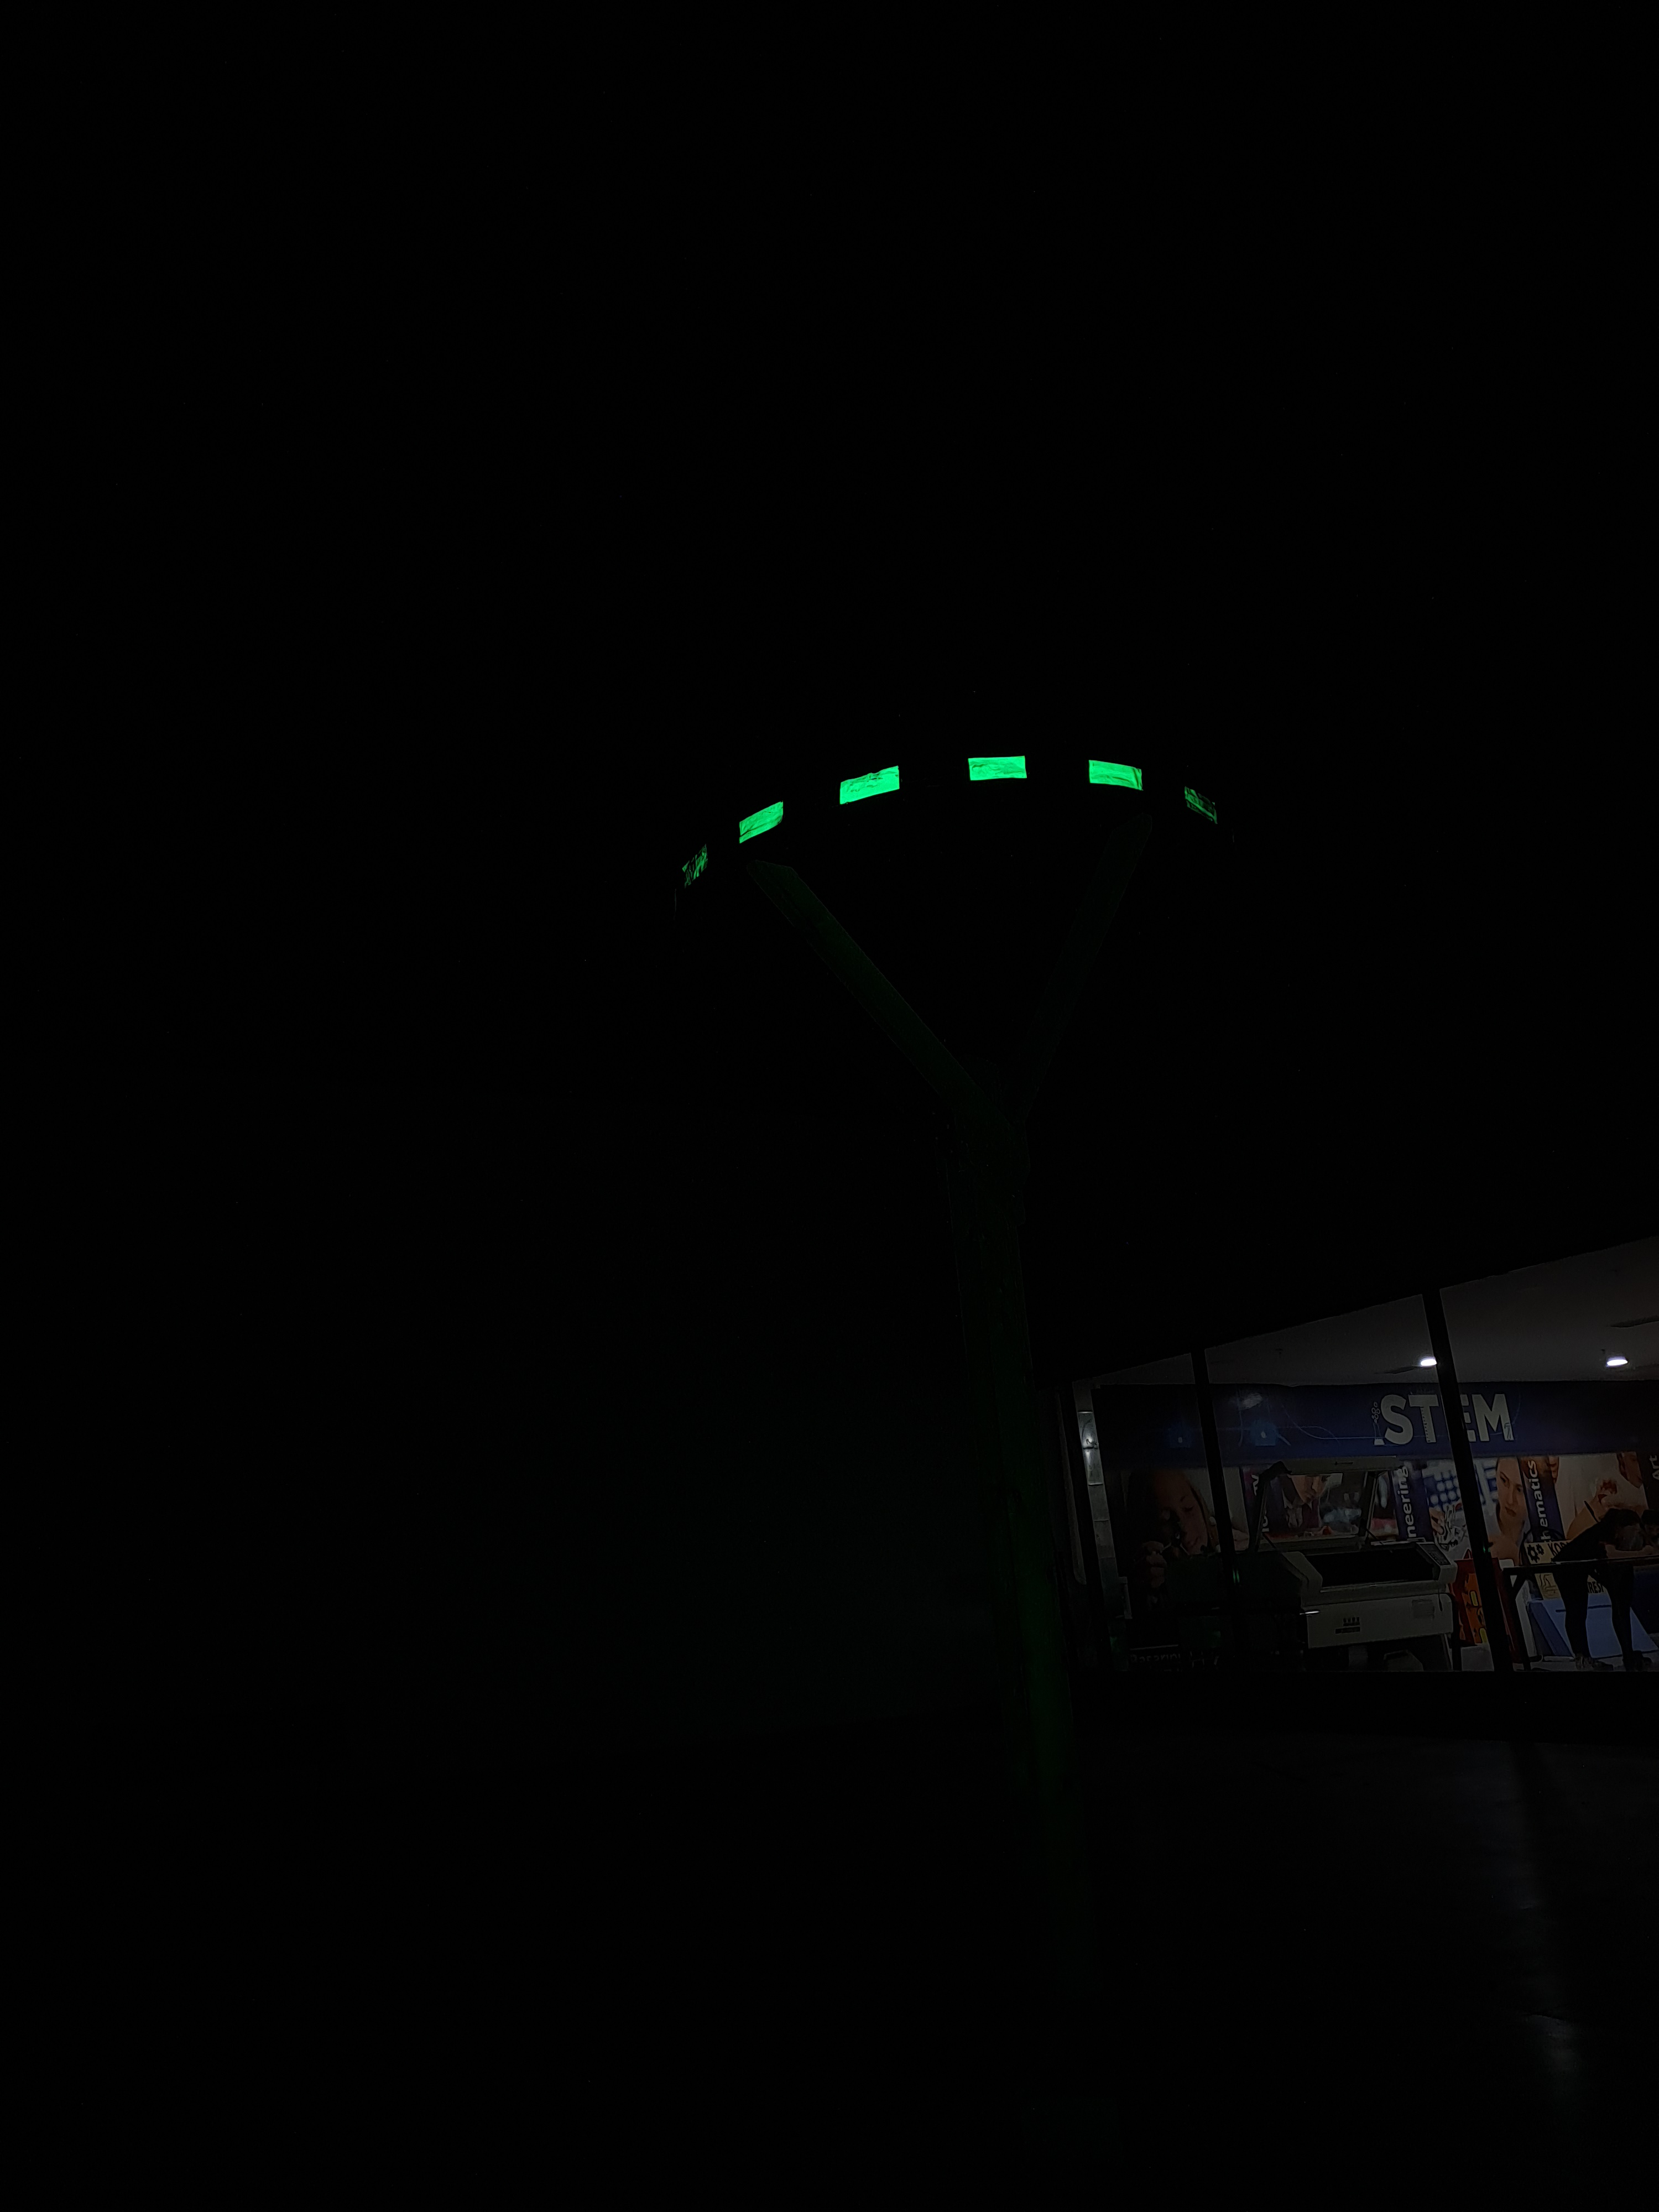hoop: (678, 756, 1223, 887)
